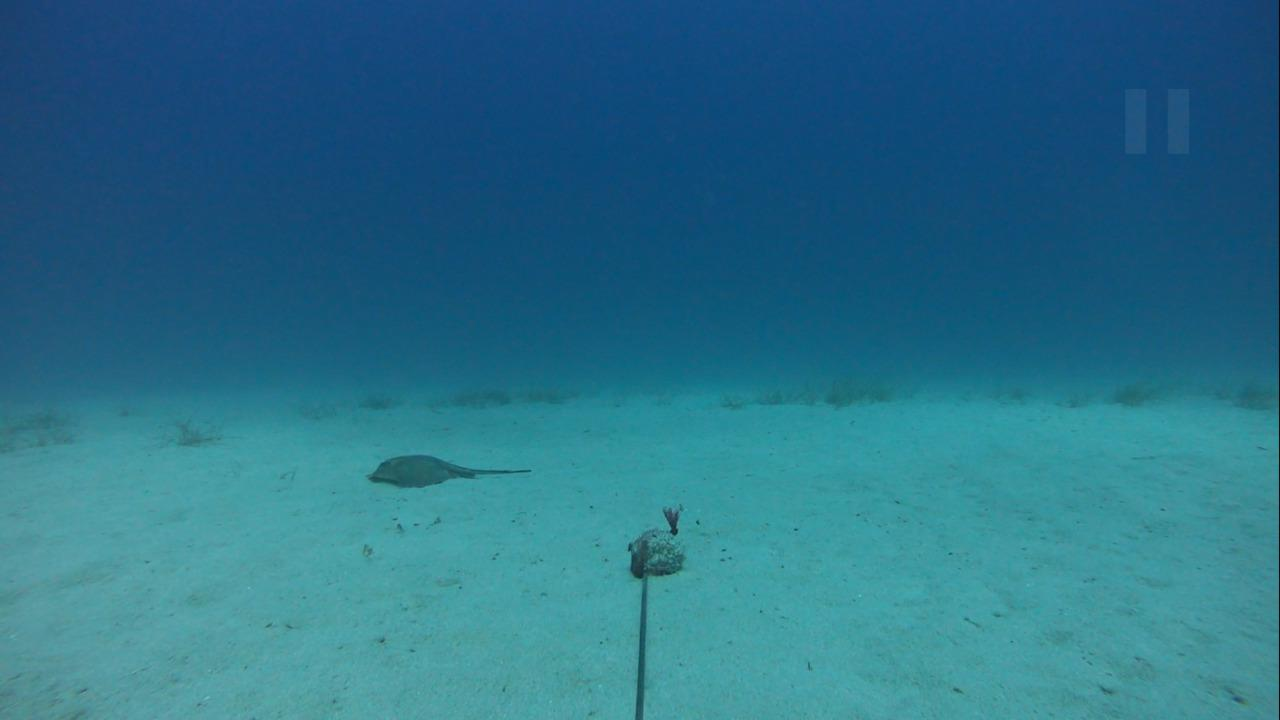myliobatis: (364, 448, 535, 492)
